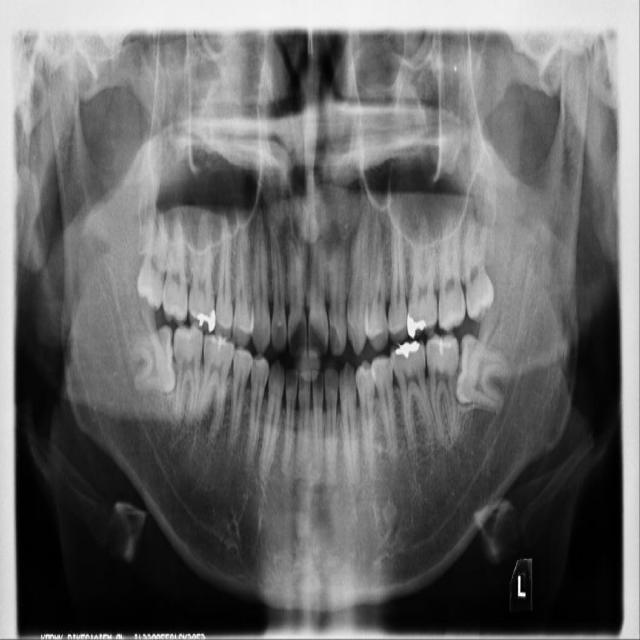3M ESPE Implant: (135, 206, 170, 312)
52: (194, 327, 240, 383), (387, 338, 430, 384), (424, 331, 461, 379), (187, 284, 217, 335), (407, 292, 438, 340), (270, 308, 287, 353)
73: (586, 596, 595, 602)
BioHorizons Implant: (437, 214, 468, 334)
BioLife Implant: (459, 212, 497, 325)
Biomet 3i Implant: (449, 331, 517, 412)
Blue Sky Bio Implant: (426, 331, 459, 447)
Caries: (156, 202, 190, 329)
Implant: (166, 320, 205, 436)
Keystone Dental Implant: (122, 324, 177, 396)
